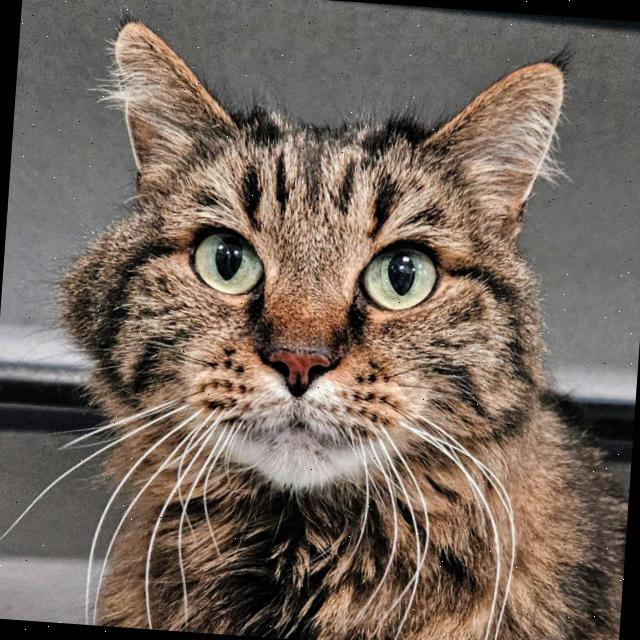manx_cat: (48, 0, 598, 521)
